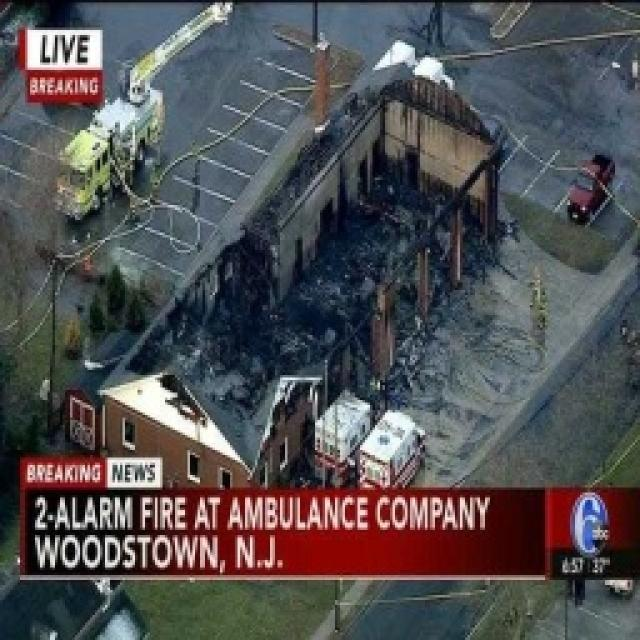emergency-vehicle: (41, 81, 172, 231), (356, 407, 415, 493), (306, 389, 366, 471)
